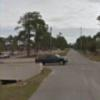cars: (34, 52, 70, 66)
